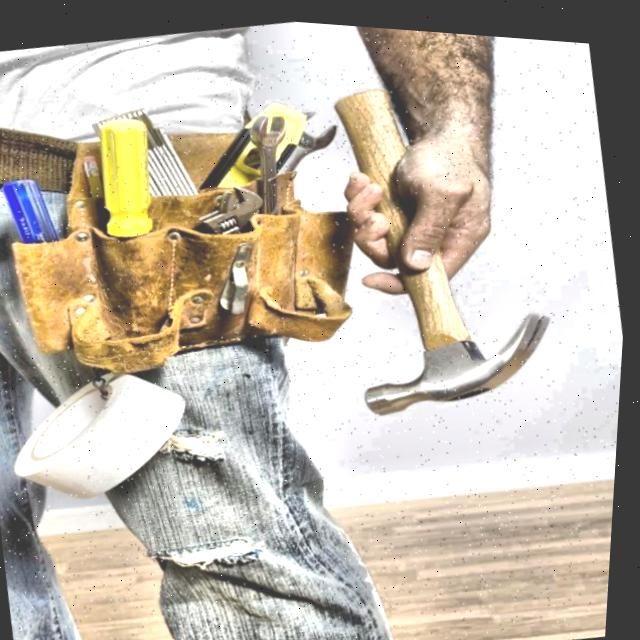hammer: (309, 50, 580, 425)
